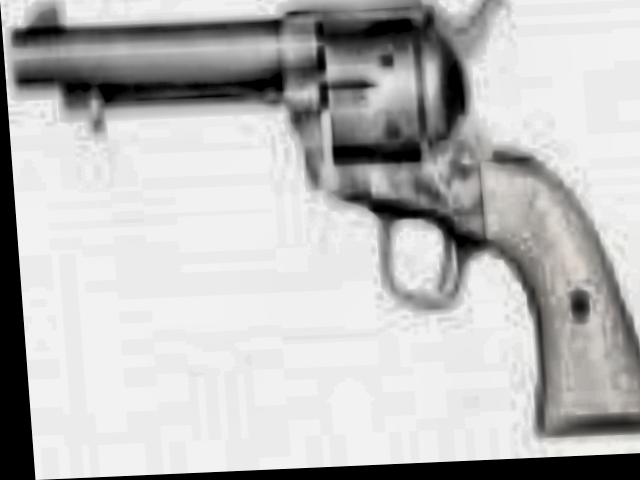pistol: (12, 0, 640, 460)
